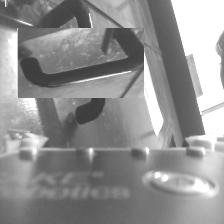Door Handle: (32, 14, 130, 113)
Lock: (2, 0, 10, 5)
